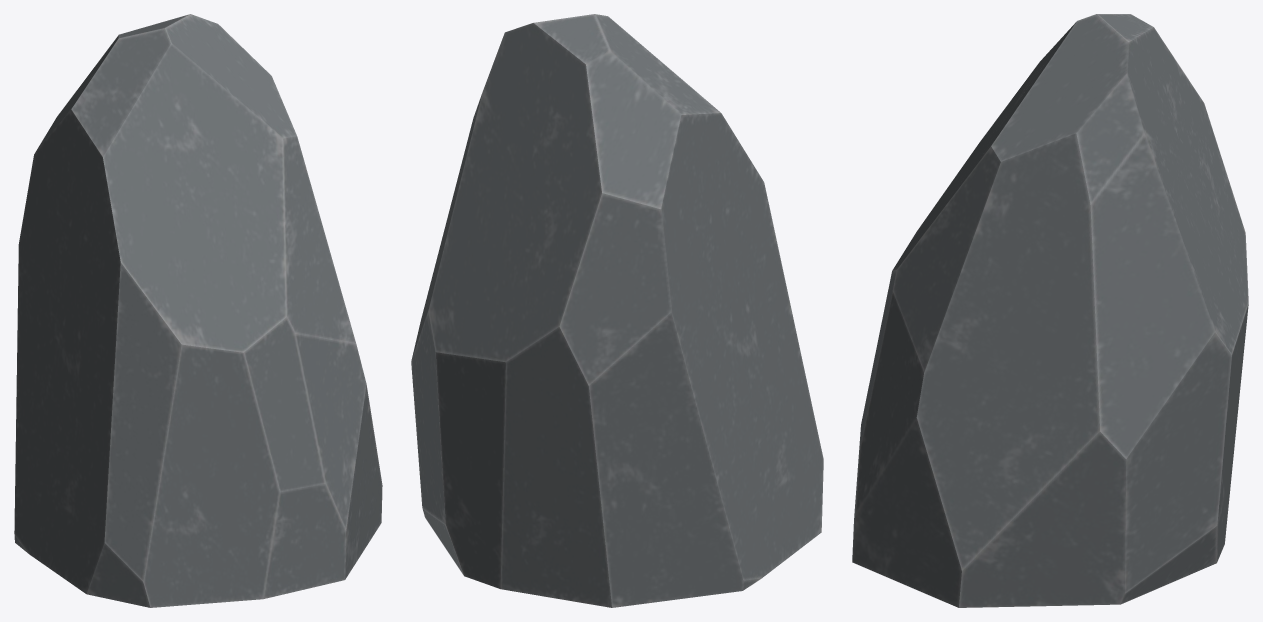
File: rock1.glb
3 renders of one model, left to right at view 1: azimuth 30°, elevation 25°; view 2: azimuth 150°, elevation 25°; view 3: azimuth 270°, elevation 25°, orthographic. The views are drawn at different scales.
Visible parts, largest first — view 1: rock_001; view 2: rock_001; view 3: rock_001.
Part boxes in pixels (<box>): rock_001: <box>14,14,382,607</box>; rock_001: <box>411,14,823,607</box>; rock_001: <box>852,14,1248,607</box>.
Bounding box in the file's own units: 0.6101 × 0.9428 × 0.6556.
Materials: 1 (1 with a texture image).
